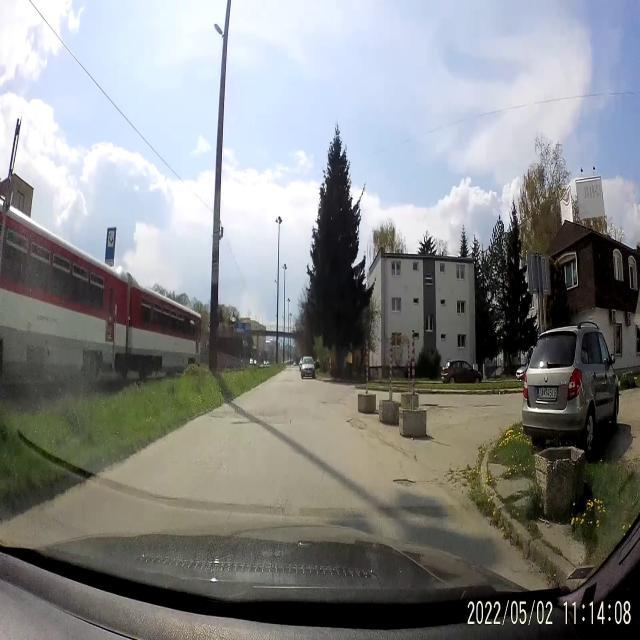Pothole: (389, 470, 418, 496), (344, 415, 372, 437)
